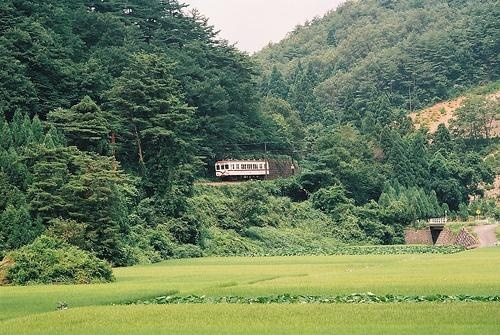train: (215, 157, 271, 182)
